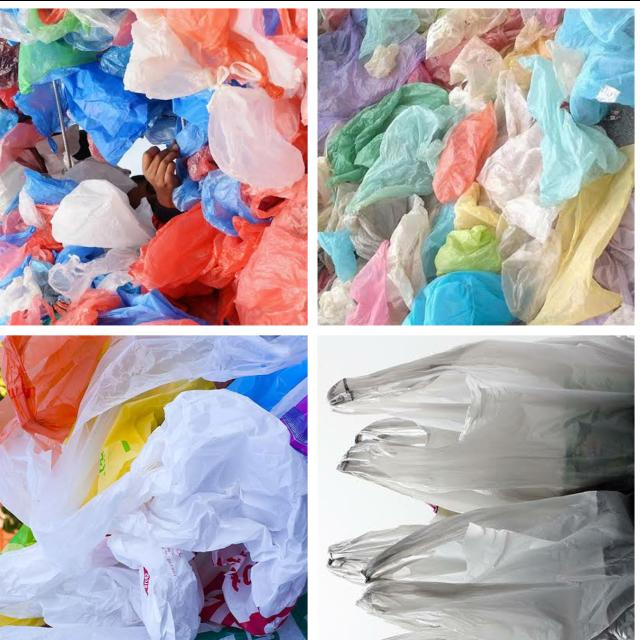plastik: (0, 335, 306, 569), (34, 389, 307, 640), (327, 336, 634, 511), (358, 490, 634, 640), (529, 144, 634, 324), (344, 104, 462, 257), (520, 55, 626, 205), (318, 14, 425, 141), (58, 44, 169, 163), (130, 204, 265, 298), (0, 543, 143, 626), (0, 335, 109, 441), (157, 8, 283, 97), (209, 84, 305, 187), (235, 189, 307, 324), (555, 8, 634, 125), (123, 8, 216, 99), (52, 178, 156, 248), (173, 158, 264, 235), (232, 8, 307, 96), (433, 101, 497, 202), (402, 270, 516, 324), (327, 524, 422, 584), (477, 123, 542, 208), (502, 230, 560, 322), (386, 195, 430, 307), (48, 246, 138, 300), (449, 35, 506, 113), (18, 39, 96, 93), (7, 288, 121, 324), (425, 8, 507, 58), (345, 240, 389, 324), (434, 224, 502, 275), (359, 8, 420, 60), (13, 82, 60, 145), (503, 192, 560, 241), (0, 624, 153, 640), (454, 182, 499, 228), (318, 228, 357, 281), (23, 167, 78, 204)
